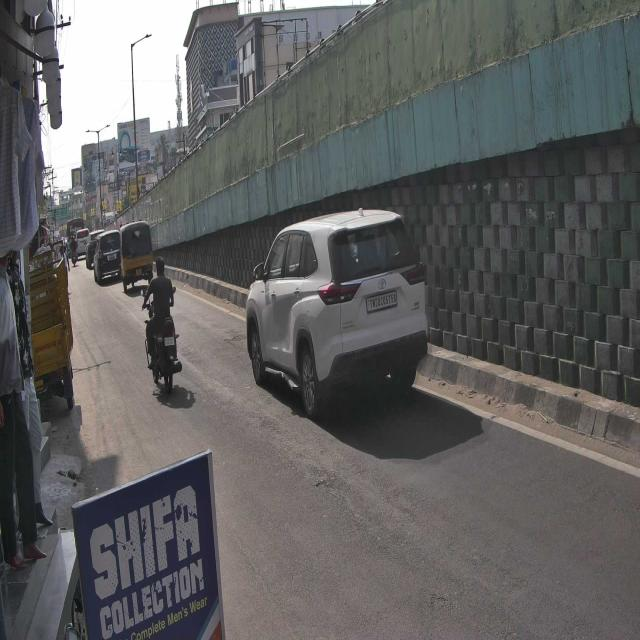single_rider: (142, 257, 182, 397)
